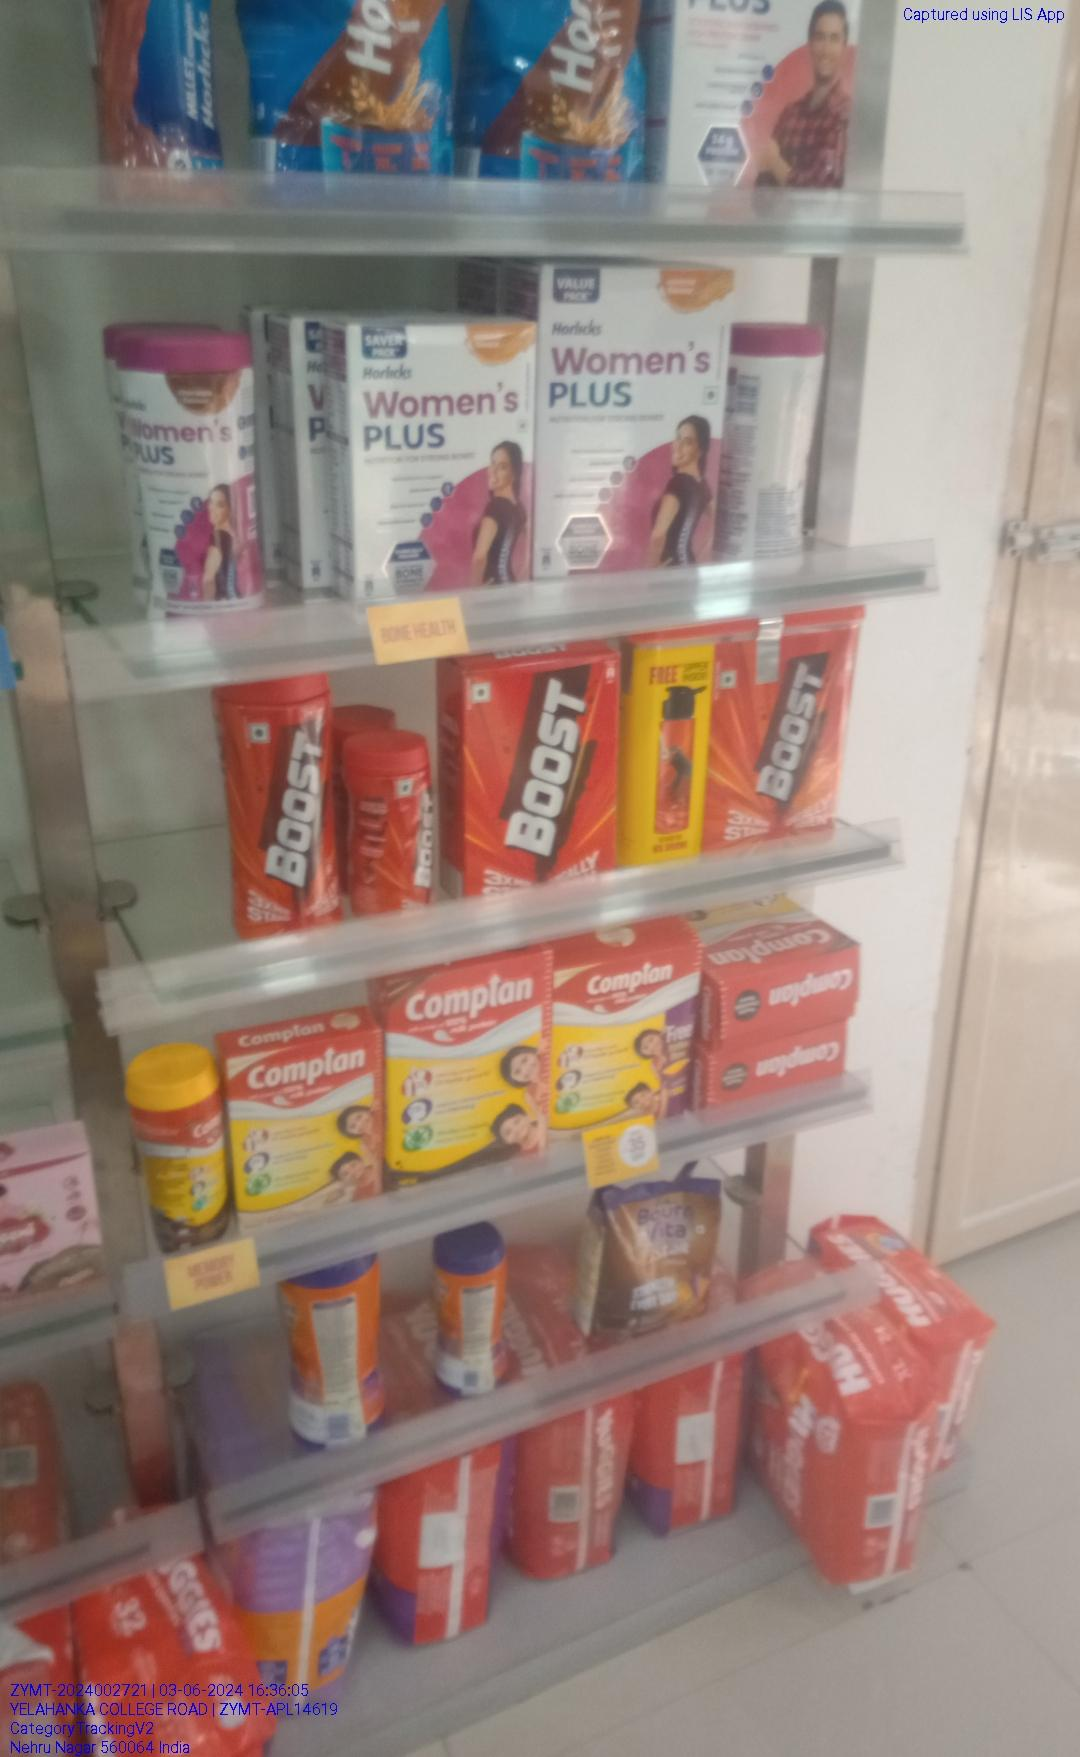COMPLAN_CHOCOLATE_500_GMS_PACK: (388, 975, 548, 1165)
COMPLAN_KESAR_BADAM_200_GMS_PACK: (228, 1054, 381, 1207), (551, 971, 696, 1121)
